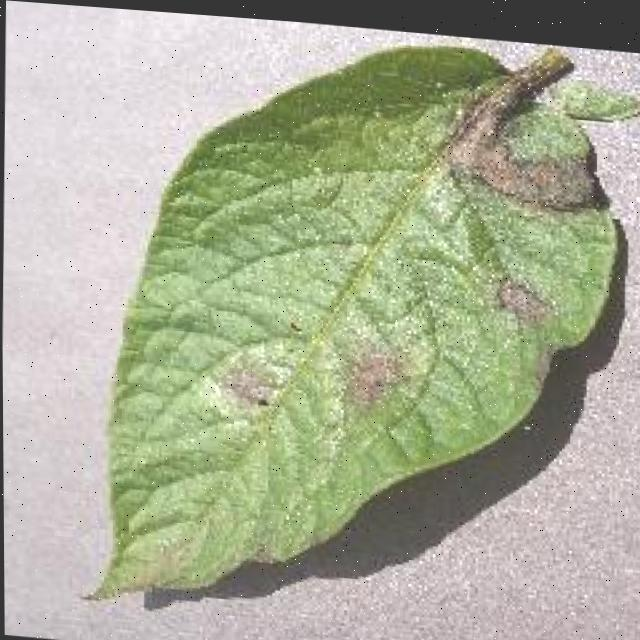Late_blight: (430, 63, 617, 228), (480, 271, 570, 397), (190, 346, 291, 441), (333, 338, 418, 426)
